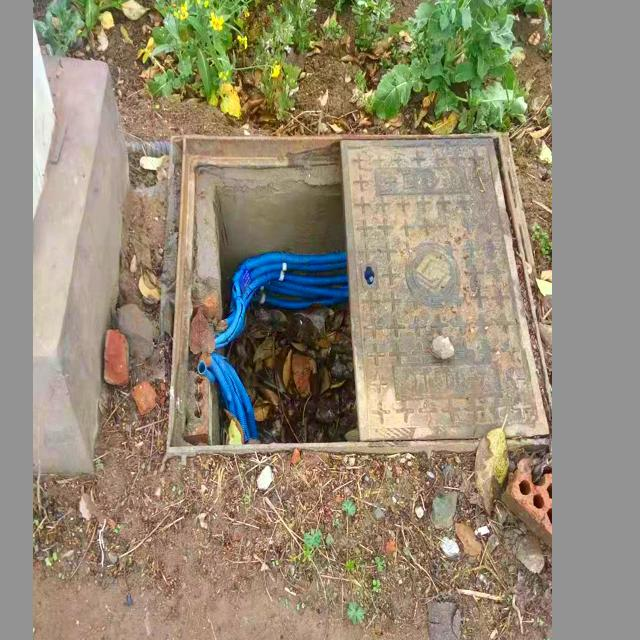lose: (162, 127, 552, 459)
